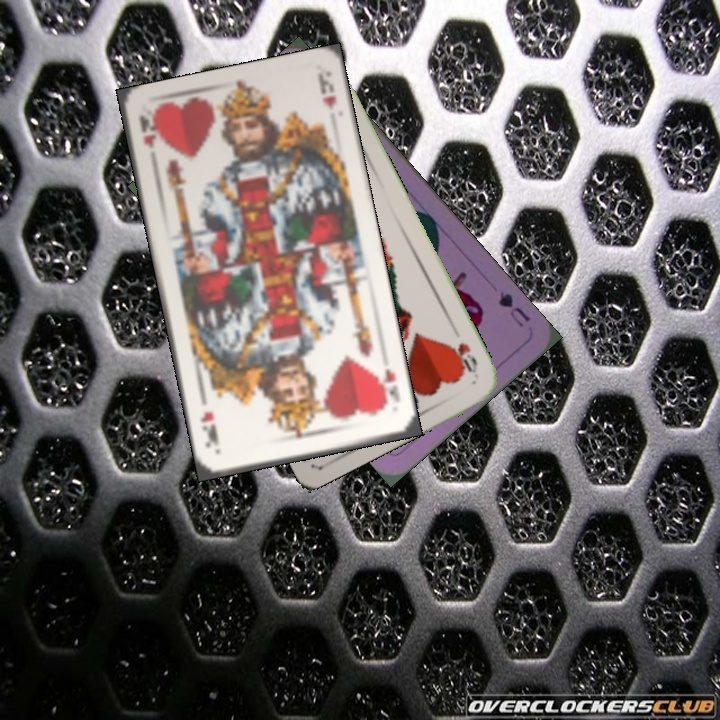GU: (494, 287, 533, 330)
HK: (373, 364, 403, 411), (135, 111, 160, 151)
HO: (445, 338, 481, 378)
